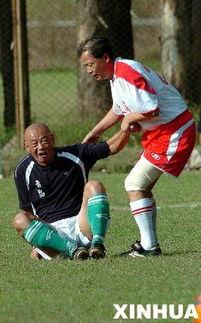bending: (87, 37, 195, 252), (10, 118, 130, 265)
